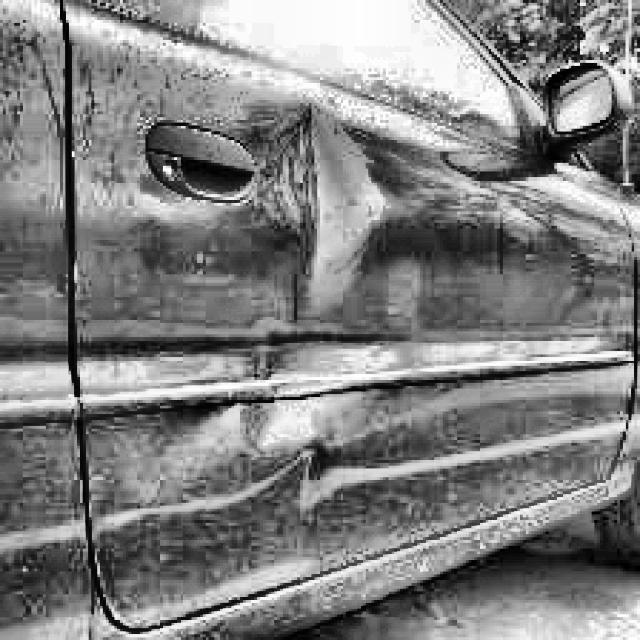door_dent: (258, 112, 398, 461)
